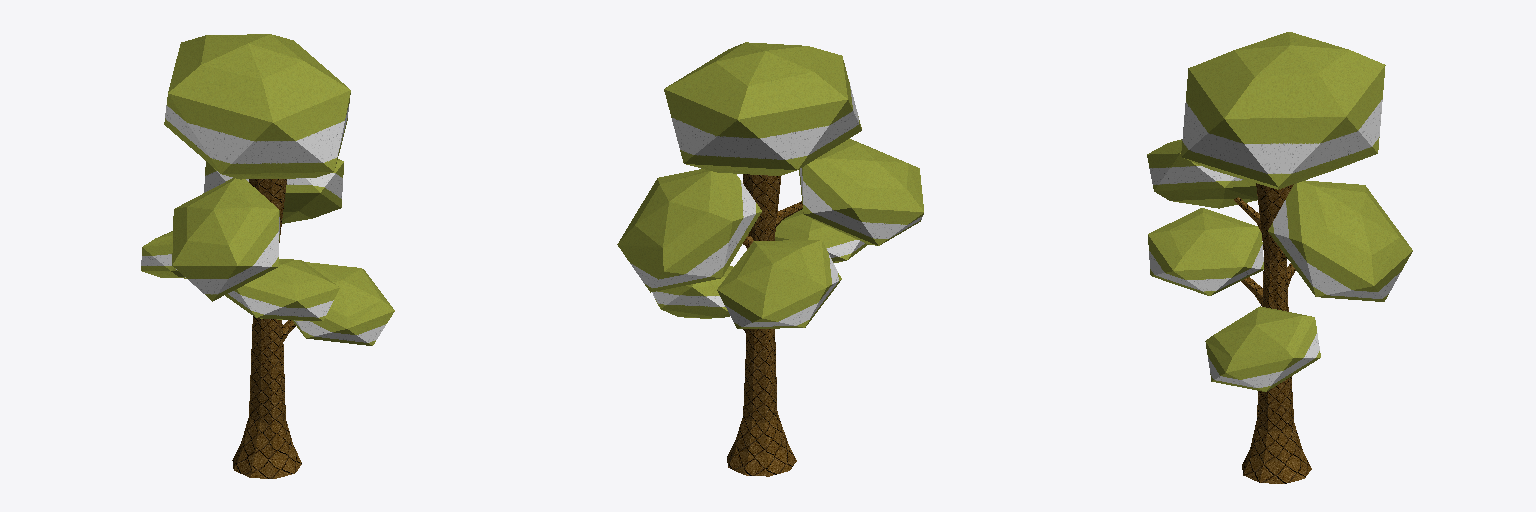
3 renders of one model, left to right at view 1: azimuth 30°, elevation 25°; view 2: azimuth 150°, elevation 25°; view 3: azimuth 270°, elevation 25°, orthographic.
Visible parts, largest first — view 1: wood.005_Cylinder.005; view 2: wood.005_Cylinder.005; view 3: wood.005_Cylinder.005.
Boxes of the visible parts, x1=… form: wood.005_Cylinder.005: x1=141, y1=34, x2=394, y2=478; wood.005_Cylinder.005: x1=617, y1=42, x2=923, y2=476; wood.005_Cylinder.005: x1=1147, y1=32, x2=1412, y2=483.
Size of the model in its own units: 2.17 by 3.62 by 2.08.
2 materials, 2 textured.